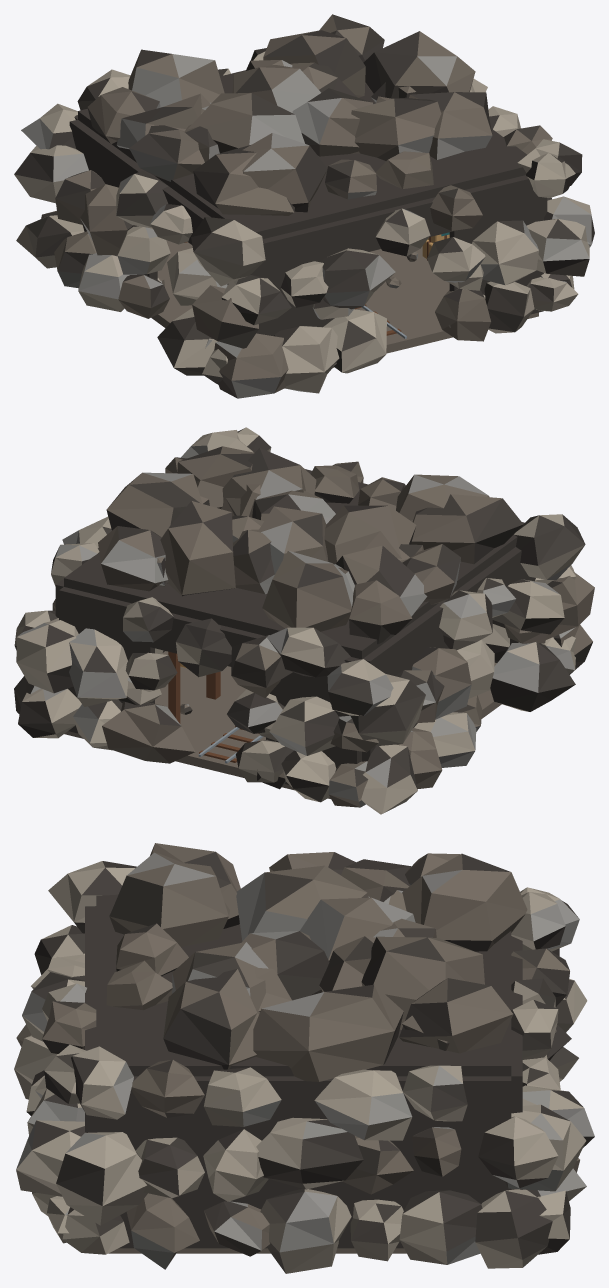
The model's file is Cave_Mines_Chamber.fbx.
3 views of the same model, one above another, from view 1: azimuth 30°, elevation 25°; view 2: azimuth 150°, elevation 25°; view 3: azimuth 270°, elevation 25° (orthographic). The views are drawn at different scales.
Parts seen in each view (by area): view 1: Decor, Ceiling1, Floor1, Wall3, Wall4, Wall7, Wall9, Wall10; view 2: Decor, Ceiling1, Floor1, Wall2, Wall7, Wall1, Wall8, Wall10; view 3: Decor, Wall5, Ceiling1, Wall2, Floor1, Wall9, Wall3.
Boxes of the visible parts, x1,y1,x2,y2 form: Decor: [14, 14, 594, 398]; Ceiling1: [78, 70, 526, 238]; Floor1: [151, 240, 538, 353]; Wall3: [251, 221, 340, 336]; Wall4: [449, 175, 543, 314]; Wall7: [69, 119, 157, 279]; Wall9: [336, 197, 453, 251]; Wall10: [156, 178, 210, 244]; Decor: [14, 427, 594, 814]; Ceiling1: [64, 469, 524, 659]; Floor1: [64, 651, 501, 798]; Wall2: [59, 587, 154, 733]; Wall7: [362, 600, 448, 761]; Wall1: [266, 657, 361, 784]; Wall8: [150, 613, 264, 666]; Wall10: [445, 551, 518, 600]; Decor: [14, 843, 594, 1273]; Wall5: [96, 1076, 511, 1248]; Ceiling1: [96, 894, 511, 1076]; Wall2: [511, 1030, 522, 1189]; Floor1: [108, 1248, 406, 1253]; Wall9: [85, 954, 96, 1009]; Wall3: [85, 906, 96, 954].
Size of the model in its own units: 50.36 by 25.27 by 50.42.
